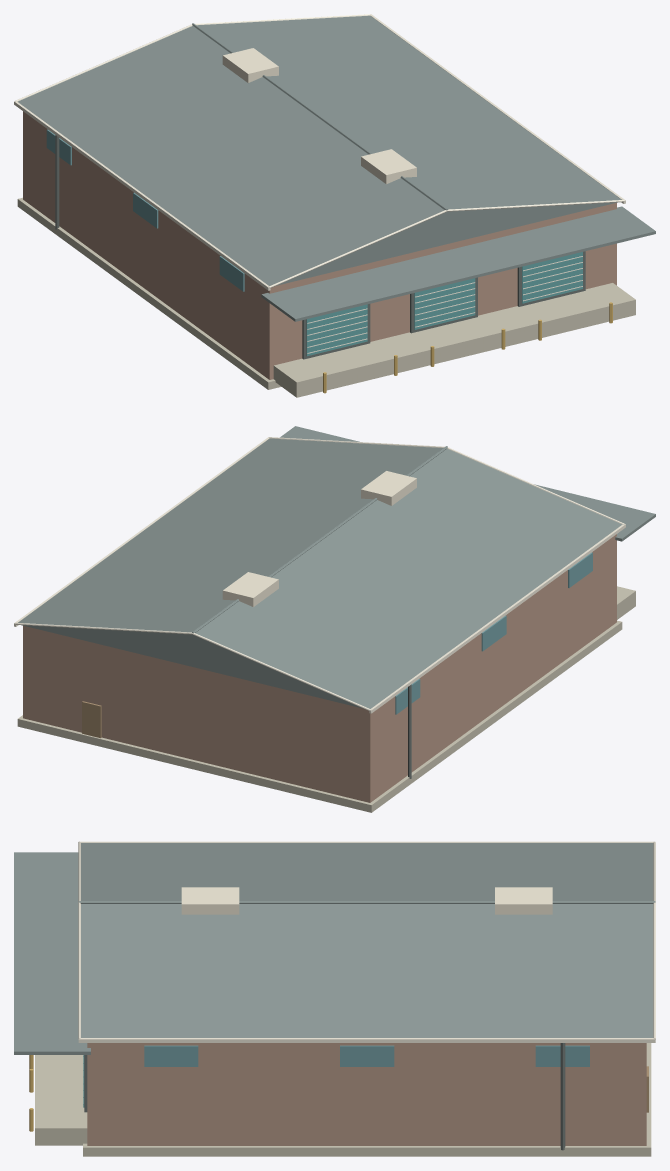
3 renders of one model, top to bottom at view 1: azimuth 30°, elevation 25°; view 2: azimuth 150°, elevation 25°; view 3: azimuth 270°, elevation 25°, orthographic. The views are drawn at different scales.
Bounding box in the file's own units: 27 × 10.28 × 36.73.
